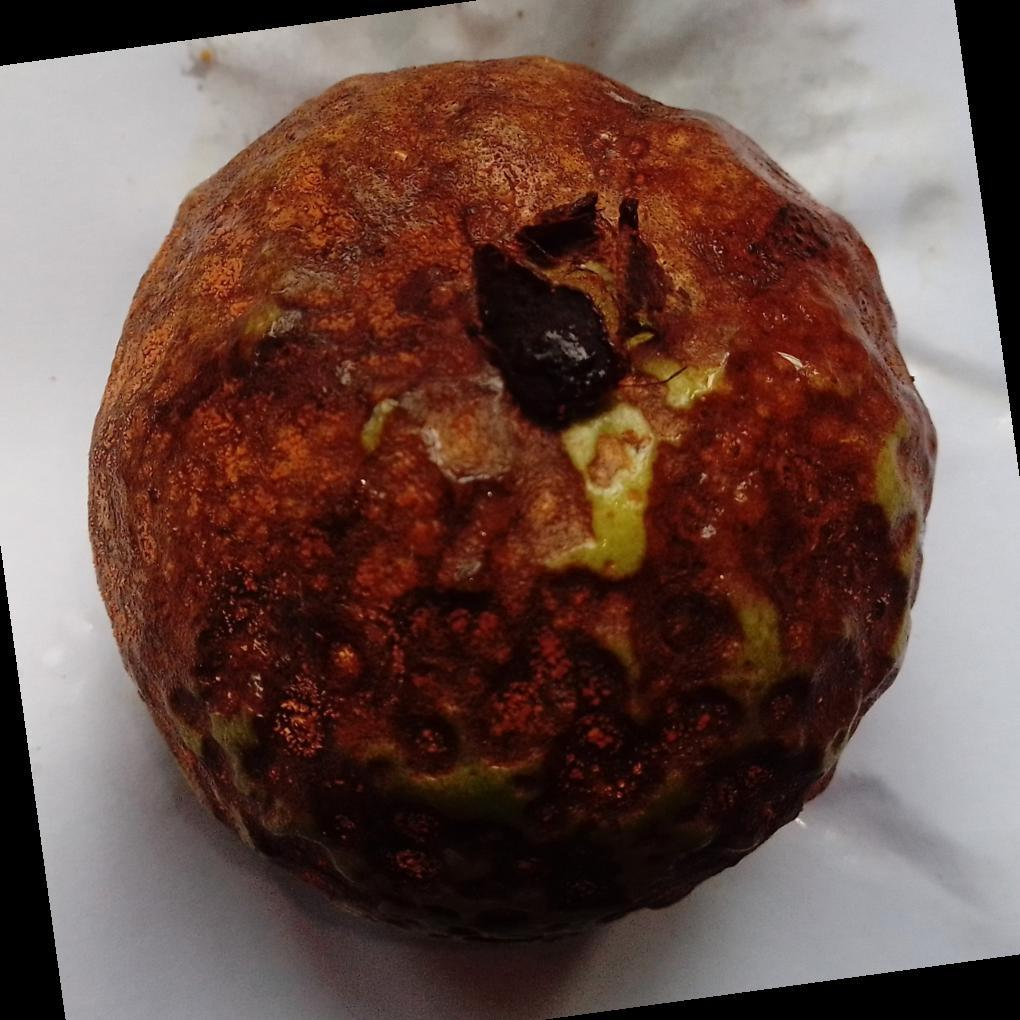FreshOrange: (86, 55, 940, 949)
